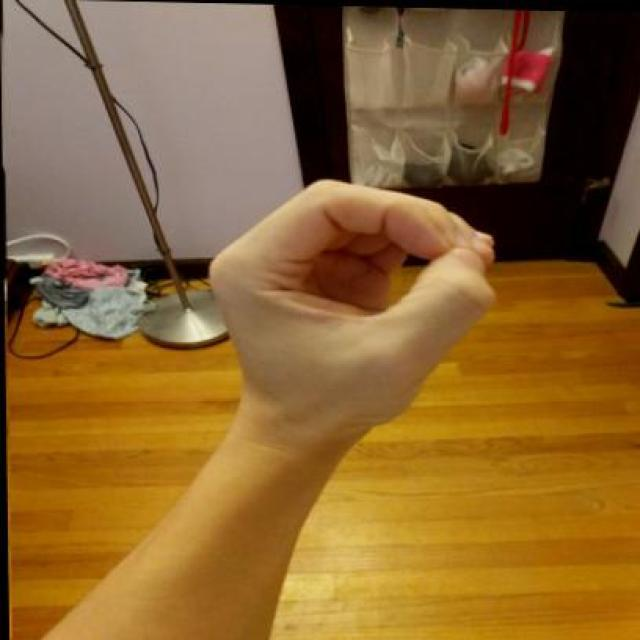O: (192, 155, 505, 467)
